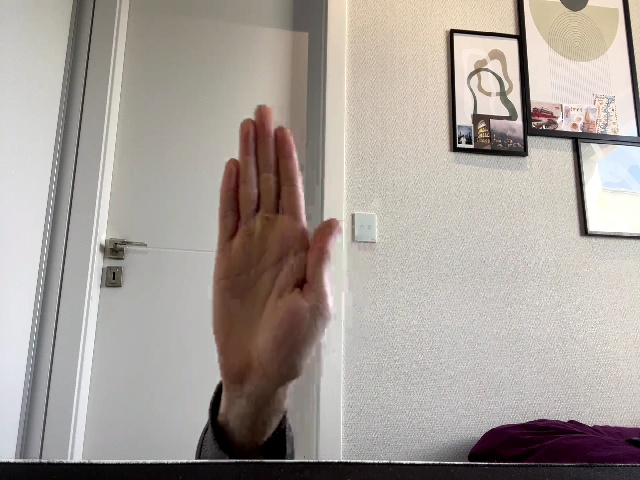B: (214, 105, 339, 386)
